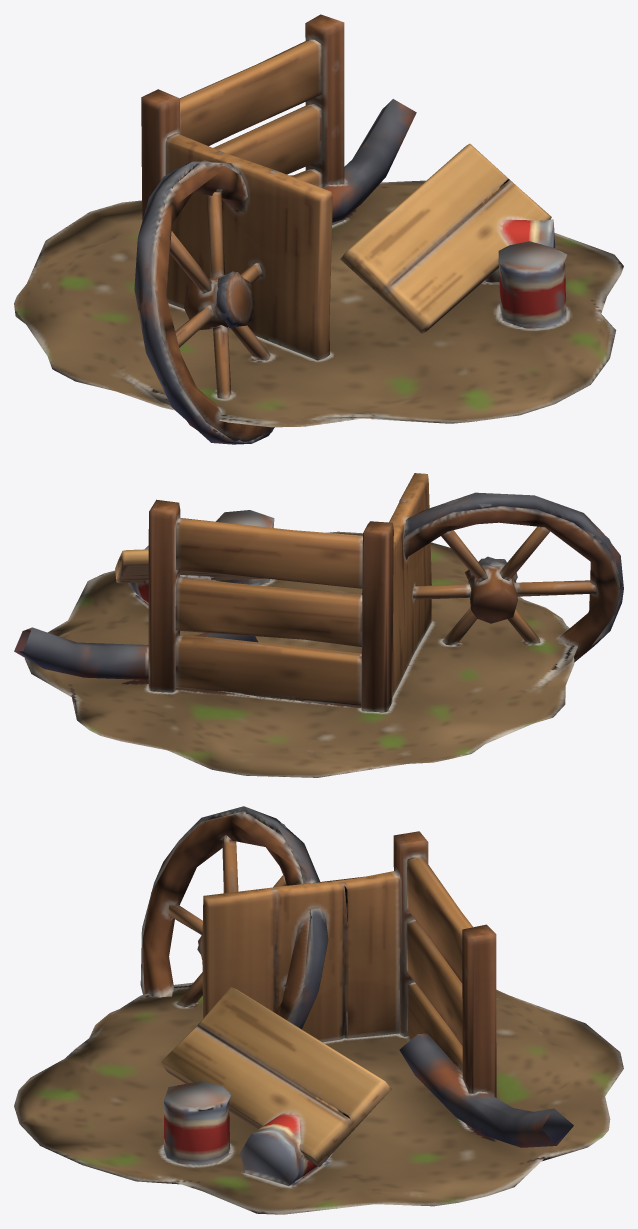
Rendered from junk_pile.glb.
3 views of the same model, one above another, from view 1: azimuth 30°, elevation 25°; view 2: azimuth 150°, elevation 25°; view 3: azimuth 270°, elevation 25° (orthographic). The views are drawn at different scales.
Visible parts, largest first — view 1: junk_pile; view 2: junk_pile; view 3: junk_pile.
Part boxes in pixels (x1,y1,x2,y2): junk_pile: (14,14,623,444); junk_pile: (14,473,623,777); junk_pile: (14,806,623,1214).
Size of the model in its own units: 1.65 by 0.7432 by 1.69.
1 material, 1 textured.
